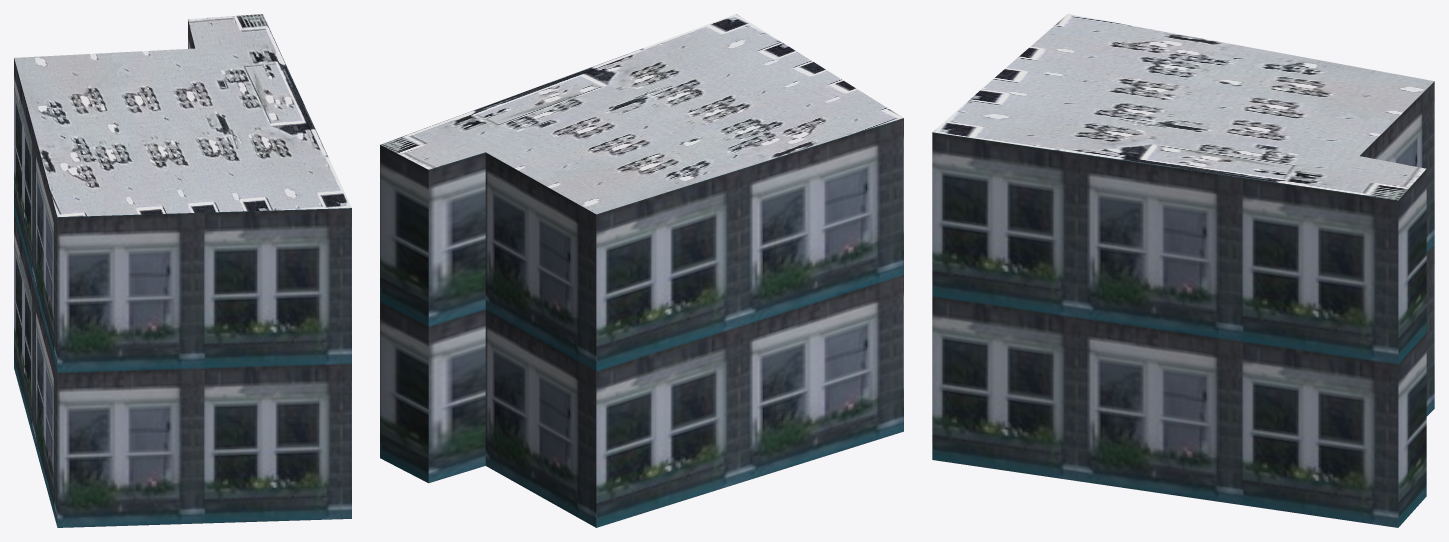
Rendered from ResTex__5095.fbx.
3 renders of one model, left to right at view 1: azimuth 30°, elevation 25°; view 2: azimuth 150°, elevation 25°; view 3: azimuth 270°, elevation 25°, orthographic. The views are drawn at different scales.
Parts seen in each view (by area): view 1: CityEngineMaterial_11_m, CityEngineMaterial_4_m; view 2: CityEngineMaterial_11_m, CityEngineMaterial_4_m; view 3: CityEngineMaterial_11_m, CityEngineMaterial_4_m.
Part boxes in pixels (x1,y1,x2,y2): CityEngineMaterial_11_m: (14, 20, 351, 527); CityEngineMaterial_4_m: (14, 14, 351, 217); CityEngineMaterial_11_m: (380, 118, 903, 527); CityEngineMaterial_4_m: (380, 14, 903, 214); CityEngineMaterial_11_m: (932, 81, 1434, 527); CityEngineMaterial_4_m: (932, 14, 1434, 200).
Bounding box in the file's own units: 7.32 × 6 × 8.34.
Materials: 2 (2 with a texture image).
